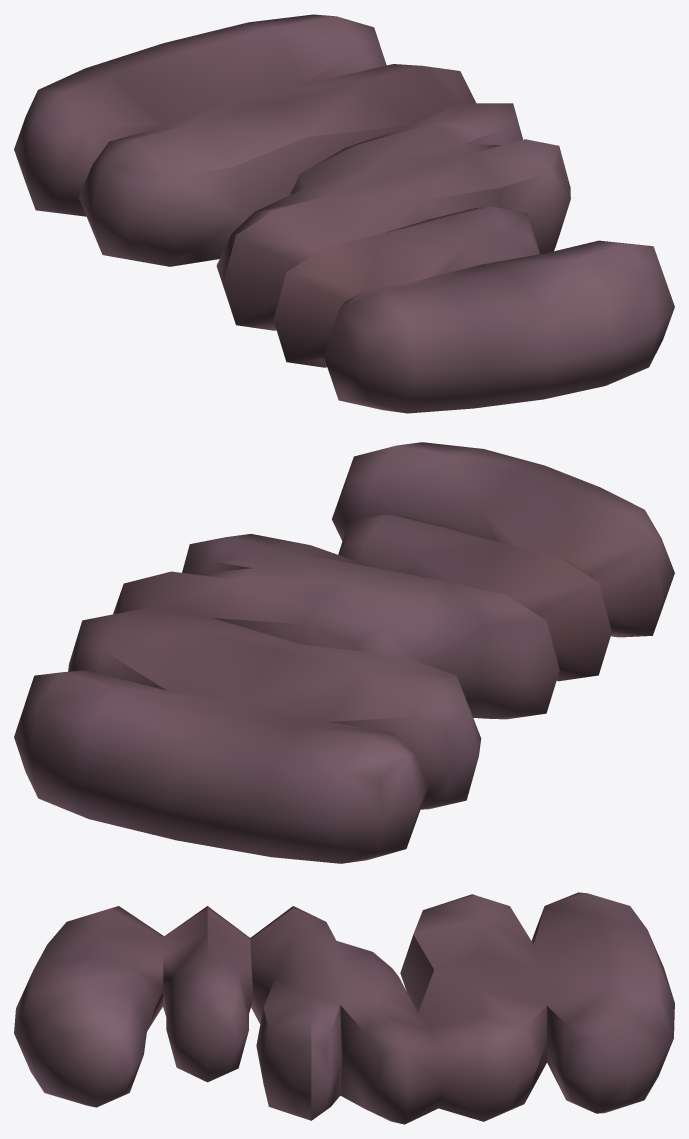
Rendered from microscopic-cells-platelet_v3.glb.
3 renders of one model, top to bottom at view 1: azimuth 30°, elevation 25°; view 2: azimuth 150°, elevation 25°; view 3: azimuth 270°, elevation 25°, orthographic. The views are drawn at different scales.
Visible parts, largest first — view 1: Platelet_v3; view 2: Platelet_v3; view 3: Platelet_v3.
Part boxes in pixels (x1,y1,x2,y2): Platelet_v3: [14, 14, 674, 413]; Platelet_v3: [14, 442, 674, 863]; Platelet_v3: [14, 892, 674, 1124].
Bounding box in the file's own units: 0.1776 × 0.0511 × 0.3.
